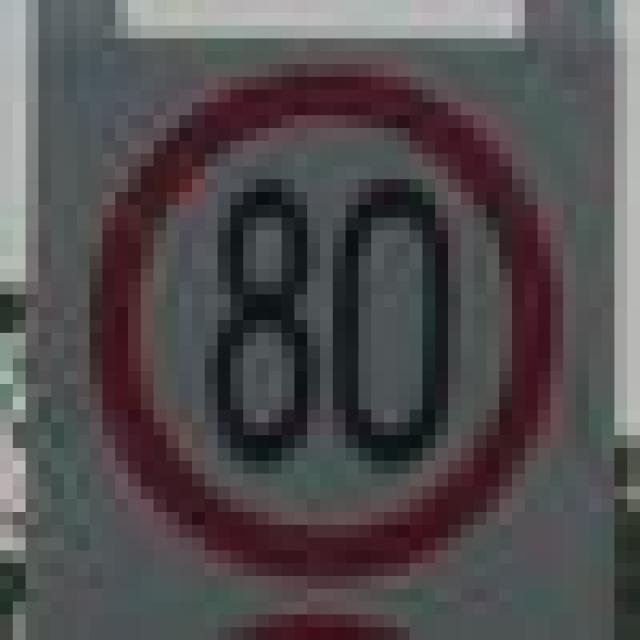speed_limit_50: (77, 64, 550, 576)
